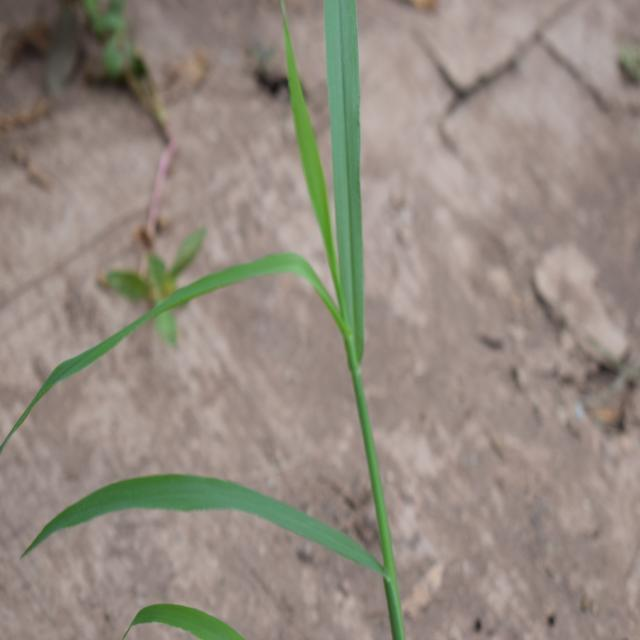crabgrass: (35, 6, 404, 570)
